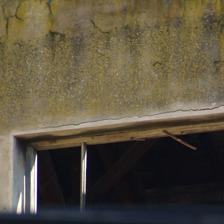Crack: (35, 102, 222, 133), (3, 2, 29, 42), (90, 19, 113, 40), (48, 29, 72, 46)
